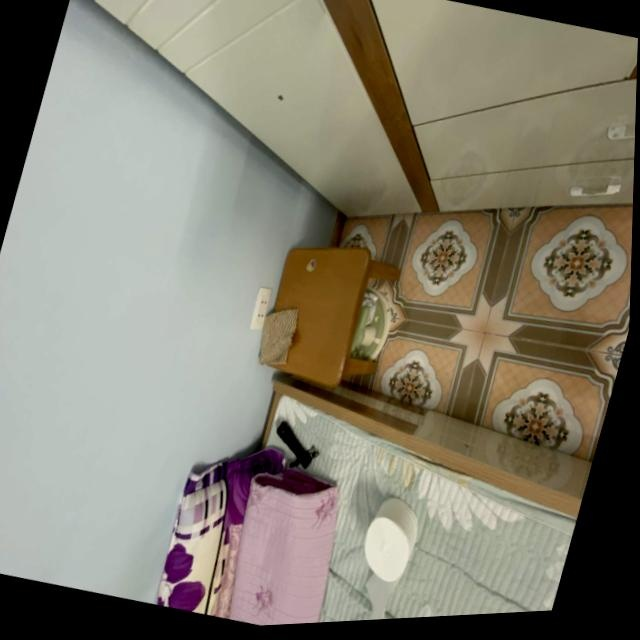outlet: (248, 285, 273, 331)
